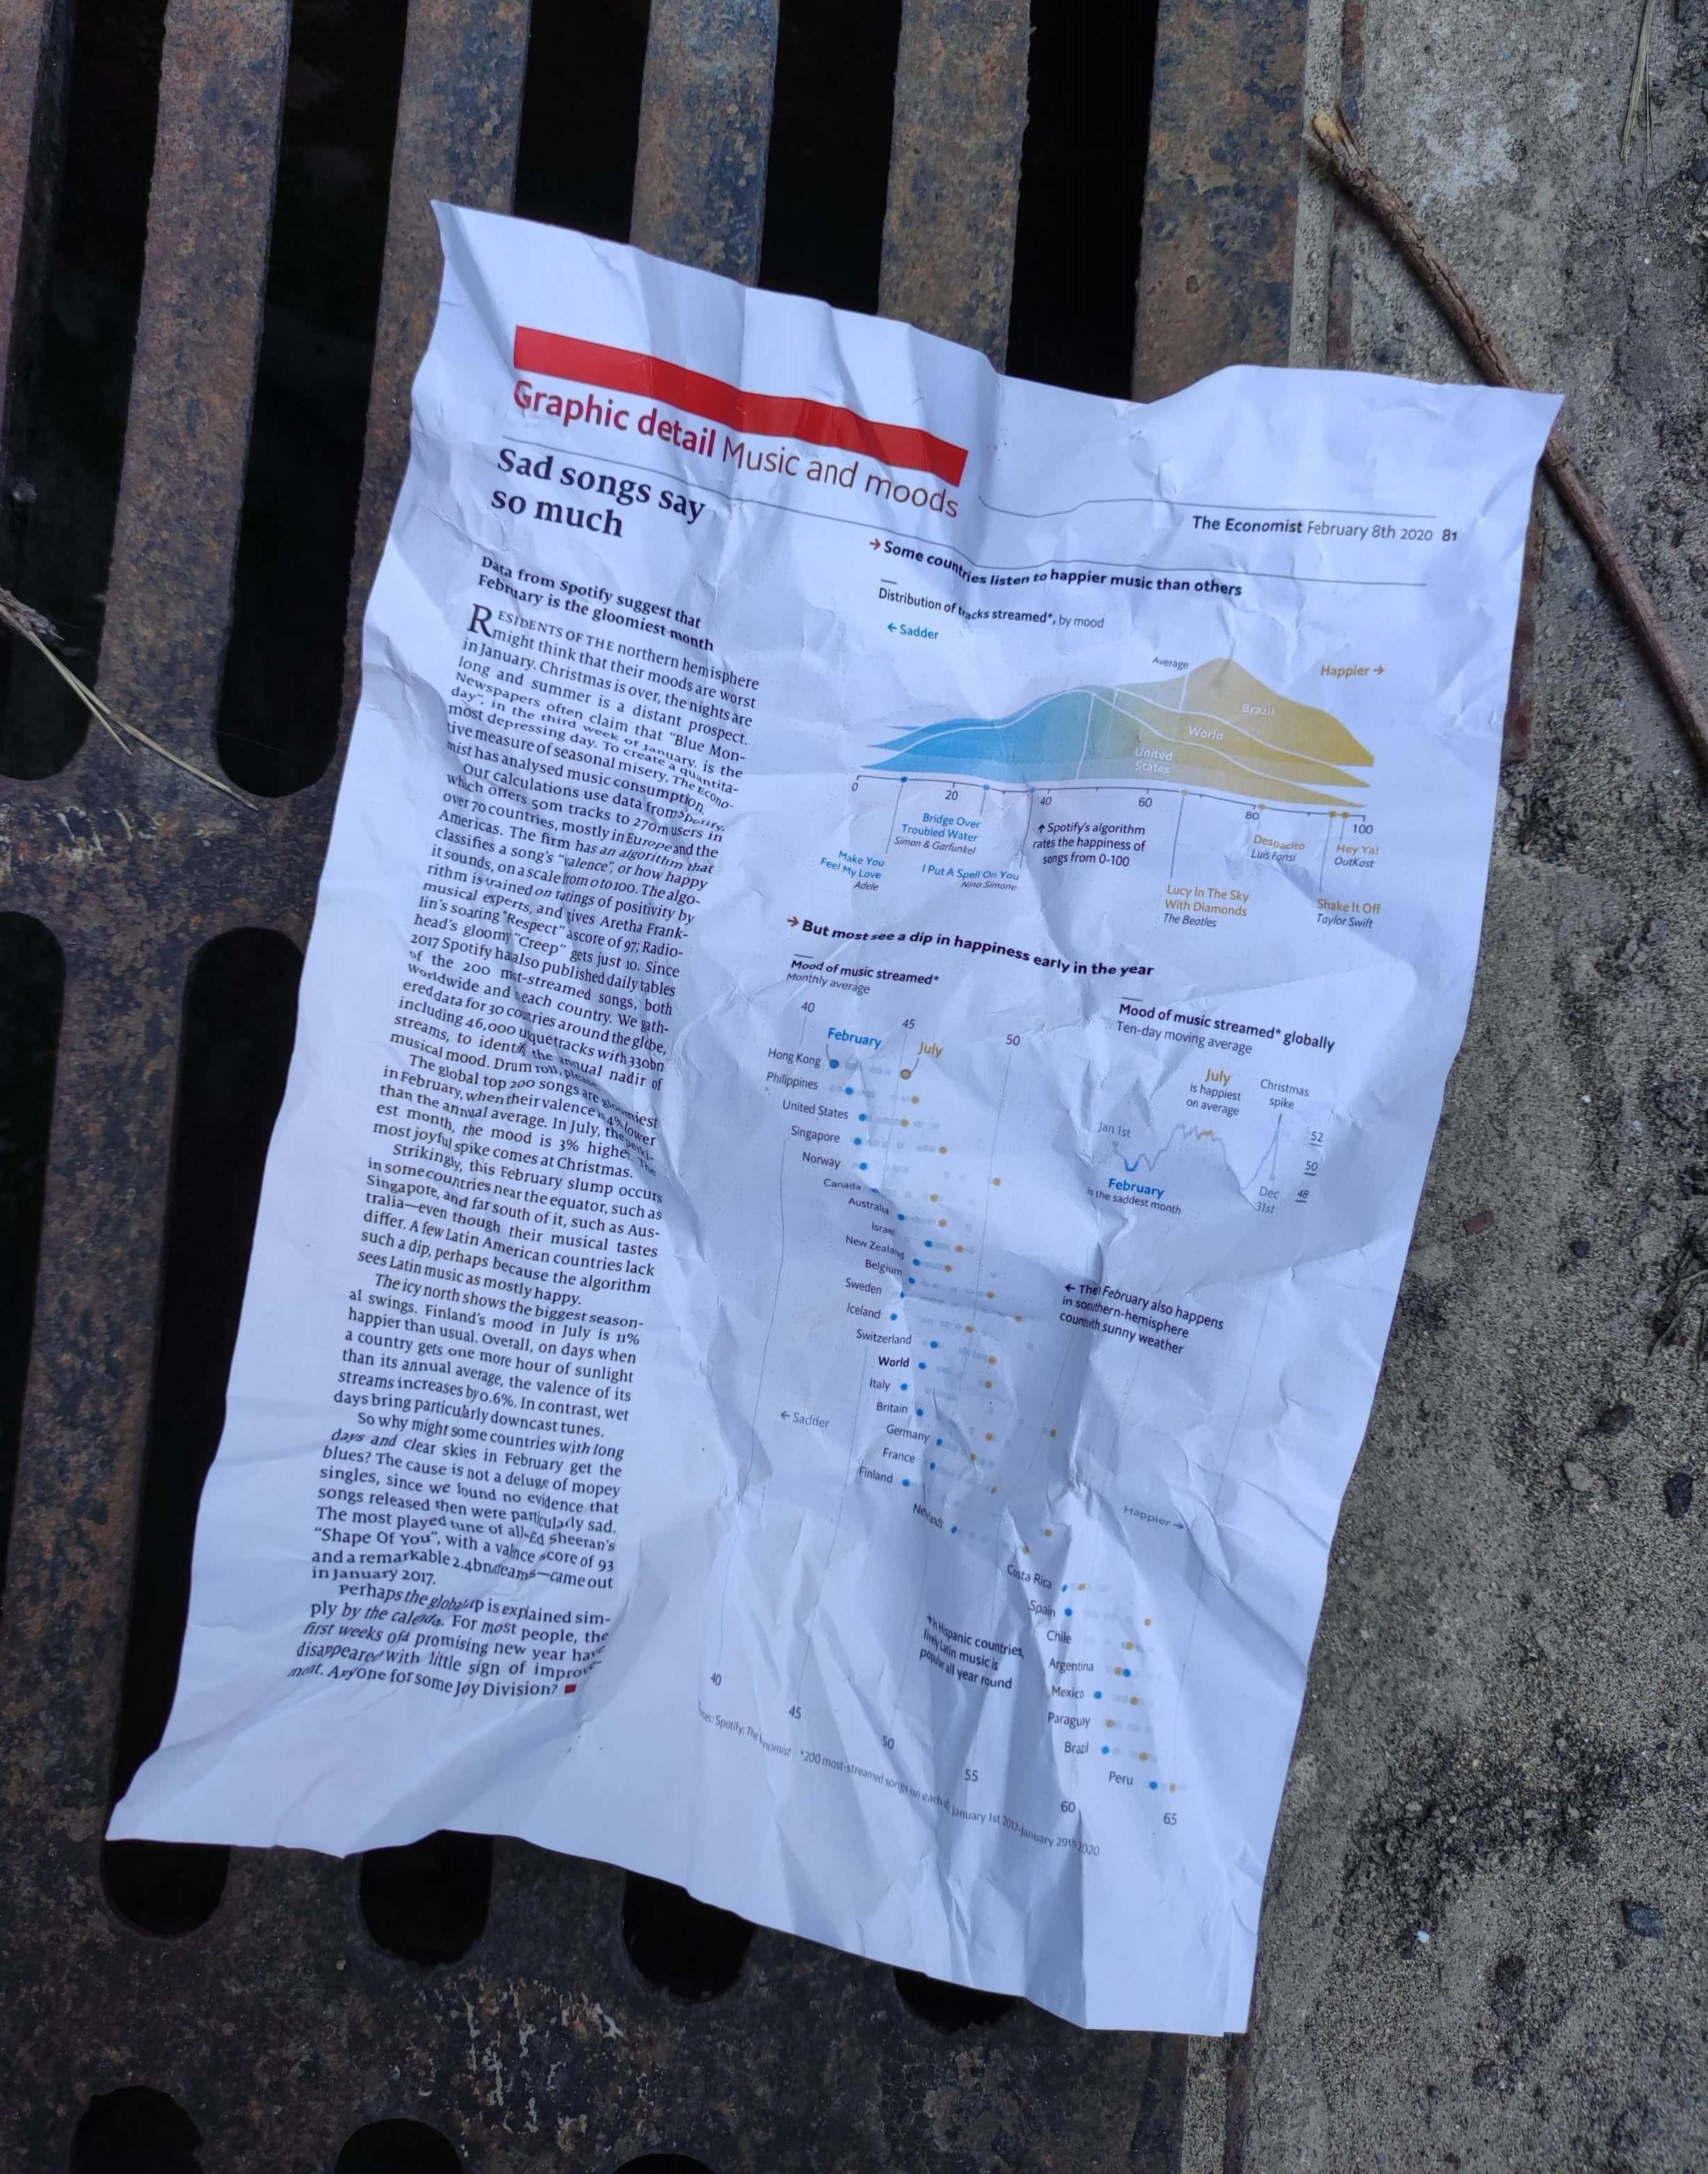paper: (102, 101, 1620, 2174)
